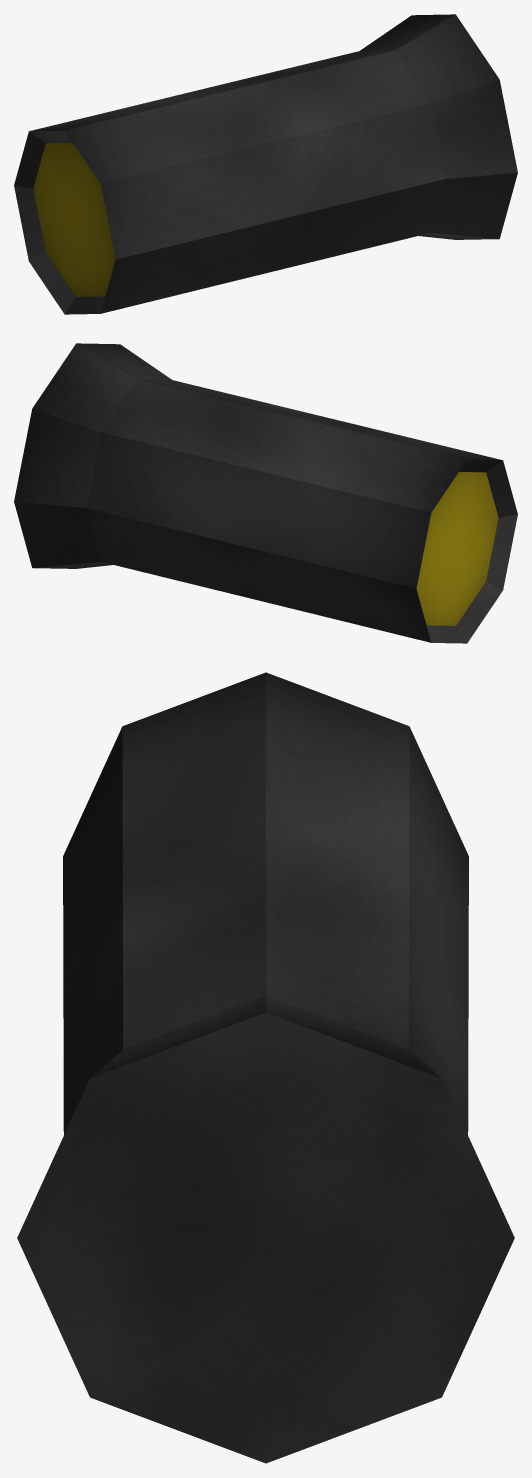
3 renders of one model, top to bottom at view 1: azimuth 30°, elevation 25°; view 2: azimuth 150°, elevation 25°; view 3: azimuth 270°, elevation 25°, orthographic. The views are drawn at different scales.
Visible parts, largest first — view 1: Motherboard component 8; view 2: Motherboard component 8; view 3: Motherboard component 8.
Part boxes in pixels (bbox=[...]): Motherboard component 8: bbox=[14, 14, 517, 314]; Motherboard component 8: bbox=[14, 343, 517, 643]; Motherboard component 8: bbox=[17, 672, 514, 1463].
Bounding box in the file's own units: 10.72 × 5.91 × 5.91.
